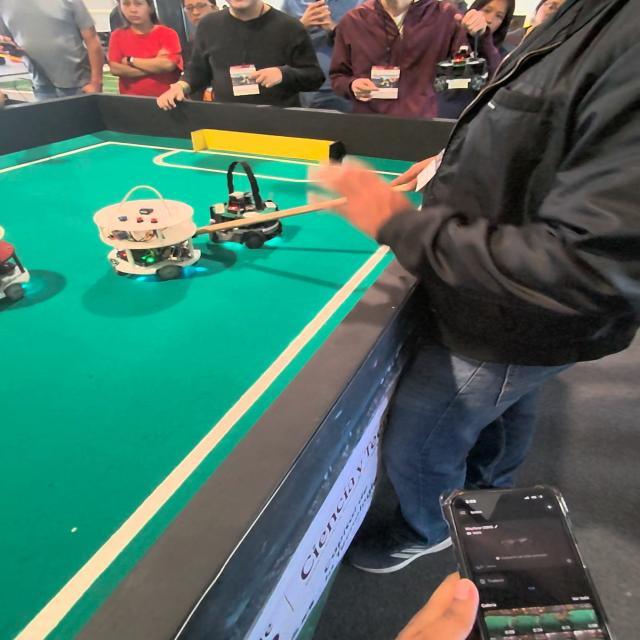Robot: (76, 177, 224, 289), (210, 158, 283, 250), (0, 200, 45, 325)
